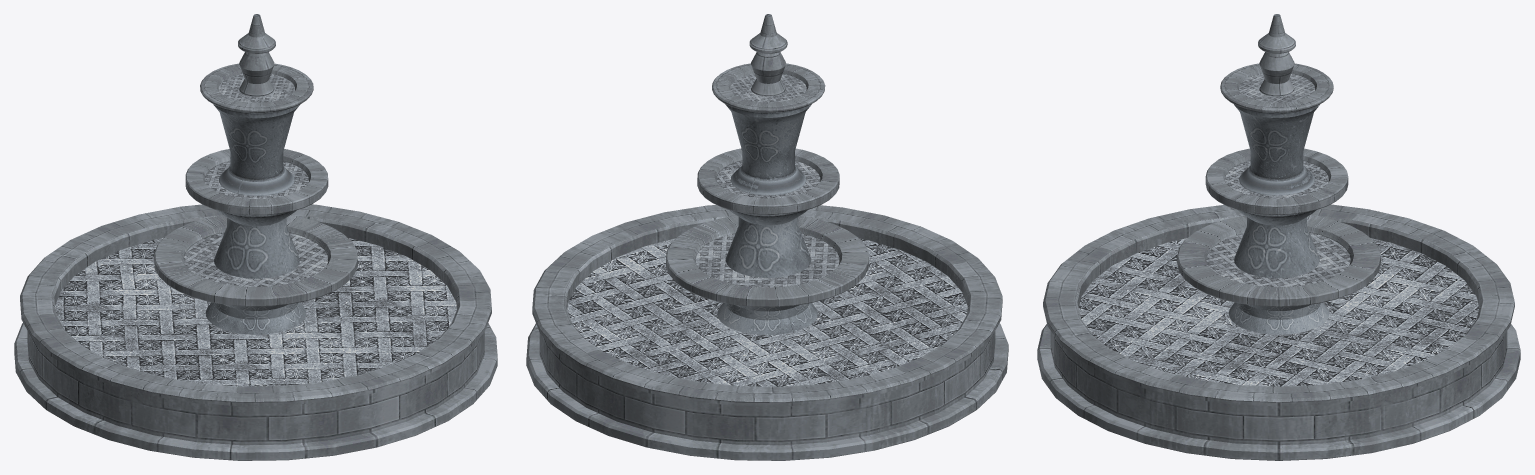
File: SM_Temple_Fountain.fbx
3 renders of one model, left to right at view 1: azimuth 30°, elevation 25°; view 2: azimuth 150°, elevation 25°; view 3: azimuth 270°, elevation 25°, orthographic.
Visible parts, largest first — view 1: SM_Temple_Fountain; view 2: SM_Temple_Fountain; view 3: SM_Temple_Fountain.
Part boxes in pixels (x1,y1,x2,y2): SM_Temple_Fountain: (14,14,497,460); SM_Temple_Fountain: (526,14,1008,460); SM_Temple_Fountain: (1037,14,1520,460).
Bounding box in the file's own units: 1101 × 863 × 1101.
